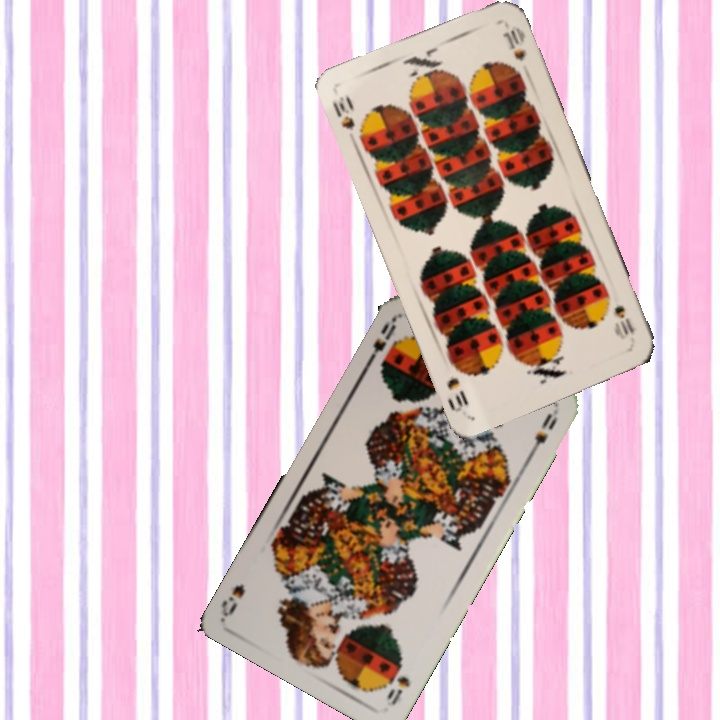S10: (328, 91, 358, 132), (610, 301, 637, 338)
SO: (364, 311, 400, 366), (382, 672, 413, 709)
